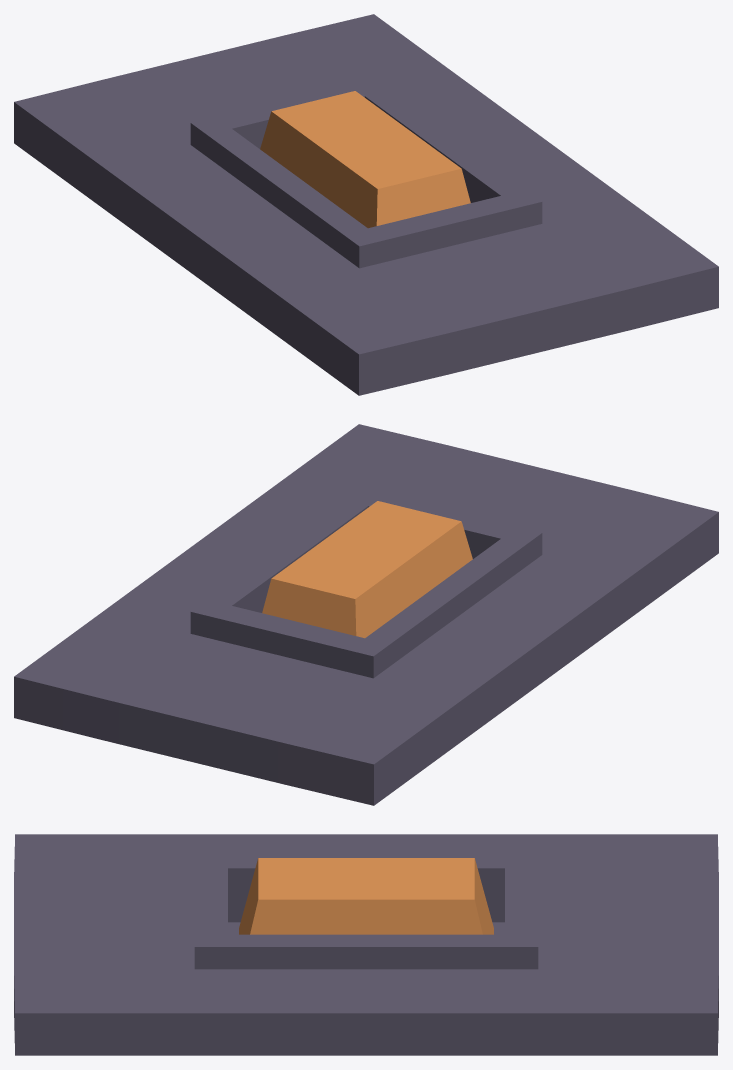
File: lightswitch.fbx
The picture shows the model from 3 angles, top to bottom: view 1: azimuth 30°, elevation 25°; view 2: azimuth 150°, elevation 25°; view 3: azimuth 270°, elevation 25°; orthographic projection.
Parts seen in each view (by area): view 1: pCube1; view 2: pCube1; view 3: pCube1.
Boxes of the visible parts, left/top/right/bottom form: pCube1: left=14, top=14, right=718, bottom=395; pCube1: left=14, top=424, right=718, bottom=805; pCube1: left=14, top=834, right=718, bottom=1055.
Bounding box in the file's own units: 0.9786 × 0.2227 × 1.63.
